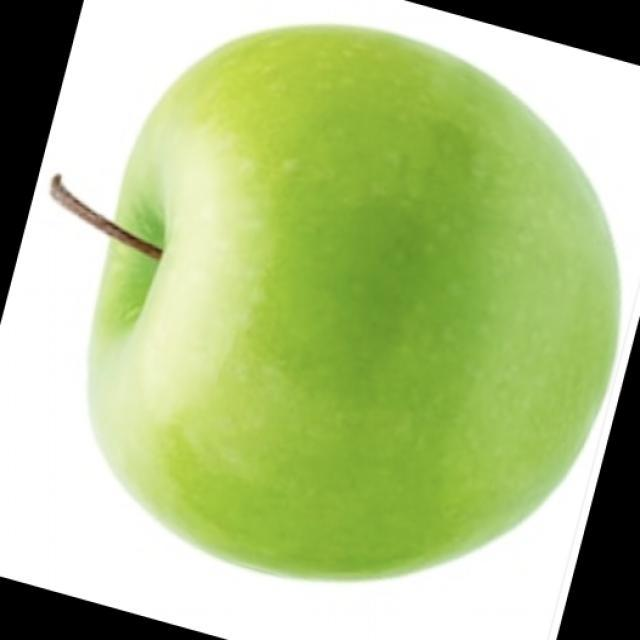Fresh Apple: (103, 33, 611, 640)
